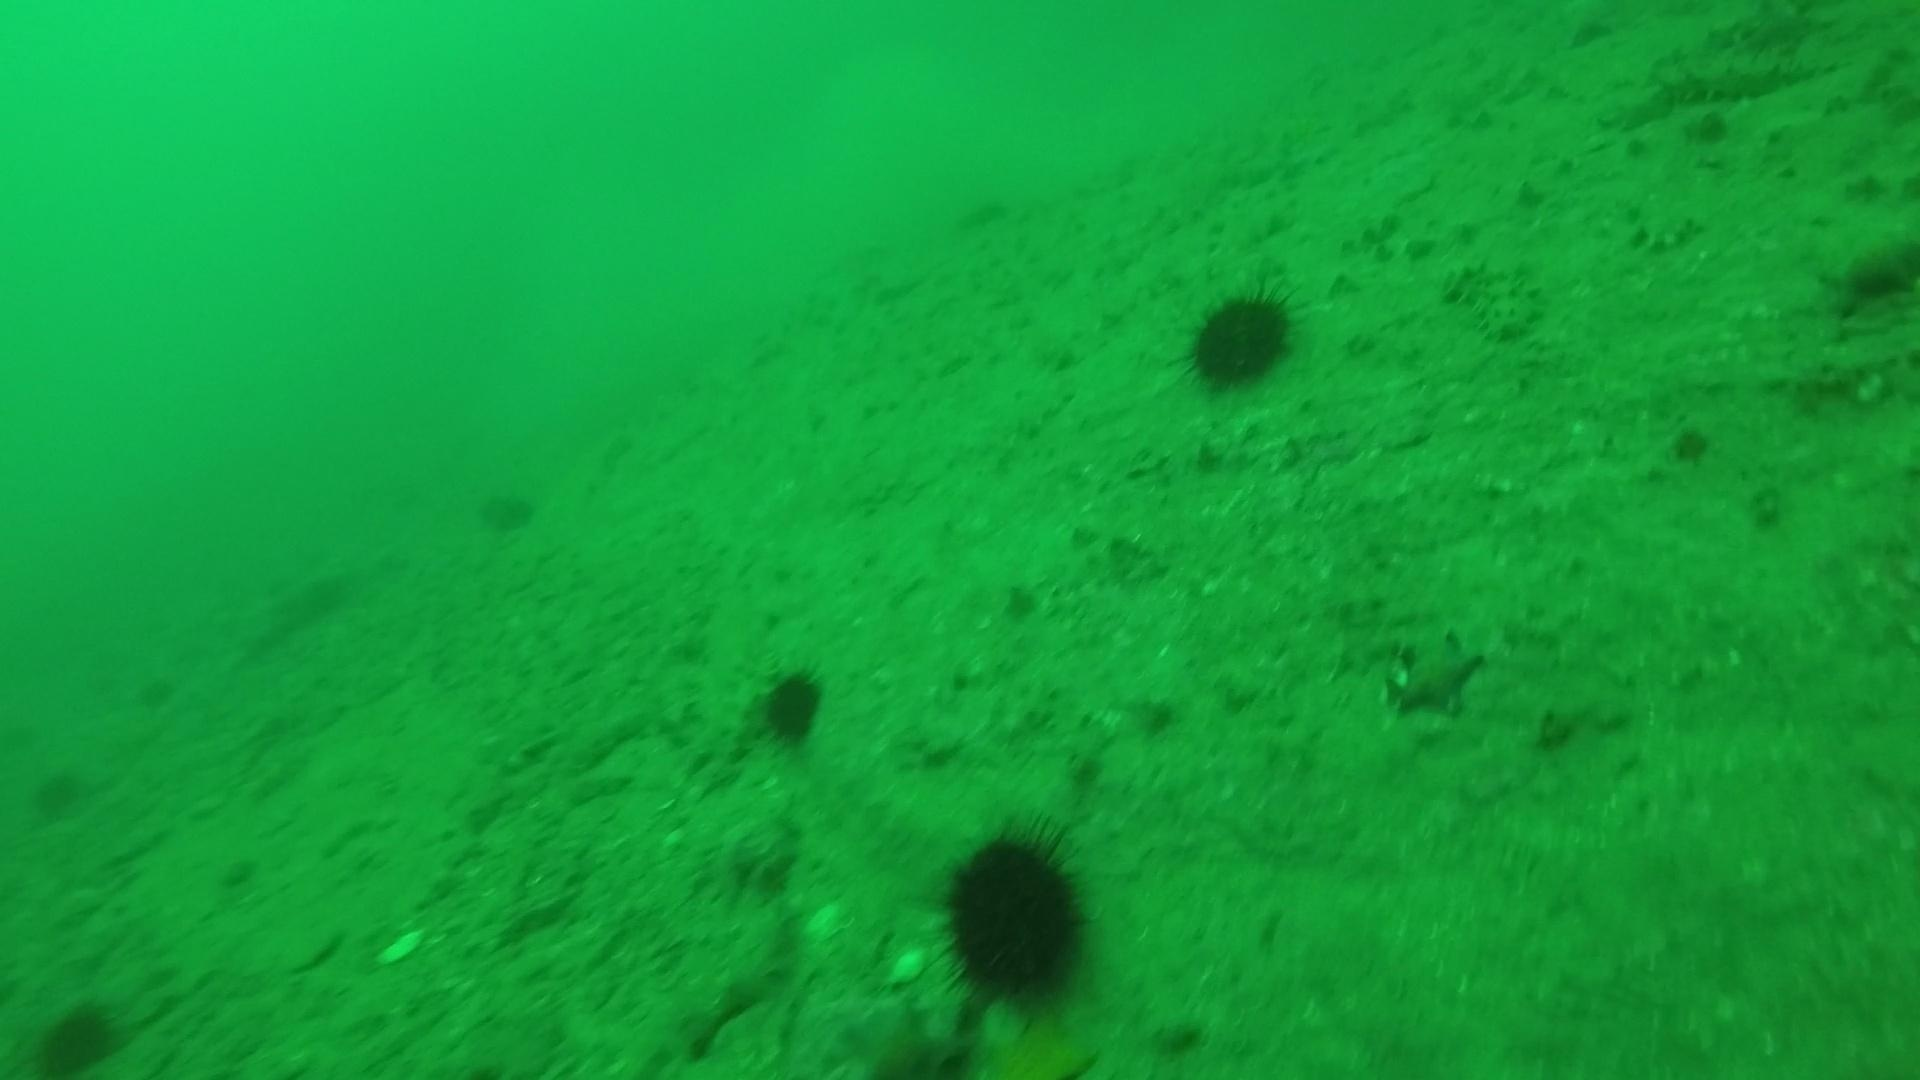echinus: (926, 819, 1100, 1014), (1179, 281, 1302, 396), (1828, 232, 1919, 319), (29, 996, 128, 1075), (750, 662, 831, 750), (26, 762, 91, 824), (475, 481, 541, 537)
holothurian: (1696, 3, 1857, 69), (1643, 47, 1804, 112), (1439, 257, 1544, 345)
starfish: (825, 994, 961, 1076), (1383, 628, 1491, 723)
